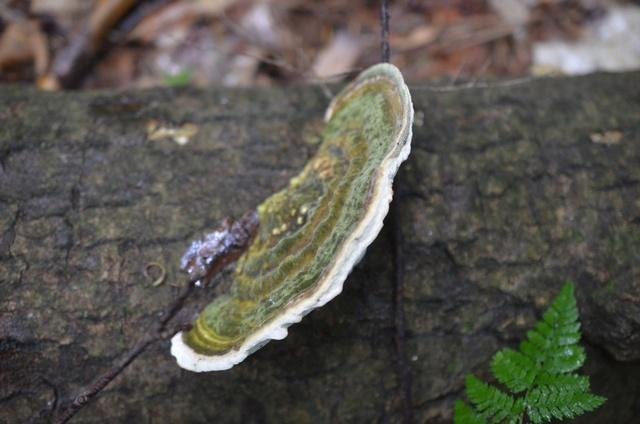poisonous_mushroom: (168, 60, 415, 373)
